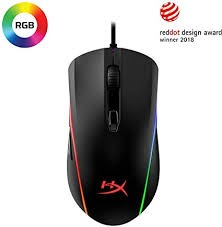mouse: (61, 44, 171, 227)
